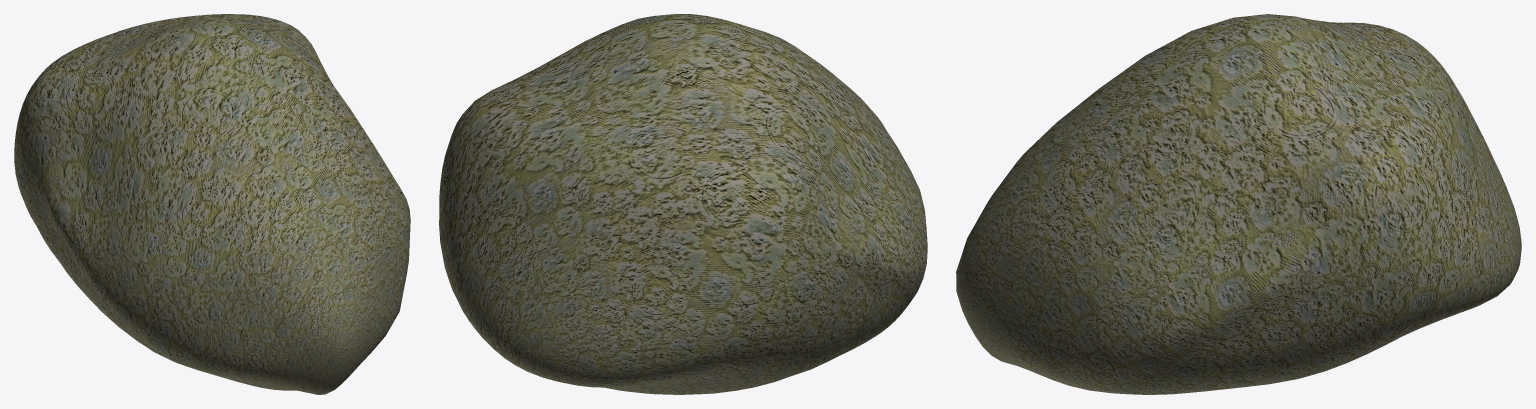
Rendered from litchenrock.fbx.
3 renders of one model, left to right at view 1: azimuth 30°, elevation 25°; view 2: azimuth 150°, elevation 25°; view 3: azimuth 270°, elevation 25°, orthographic. The views are drawn at different scales.
Parts seen in each view (by area): view 1: Roundcube; view 2: Roundcube; view 3: Roundcube.
Part boxes in pixels (bbox=[...]): Roundcube: bbox=[14, 14, 410, 394]; Roundcube: bbox=[439, 14, 927, 394]; Roundcube: bbox=[956, 14, 1521, 394].
Size of the model in its own units: 185 by 171 by 248.
1 material, 1 textured.
